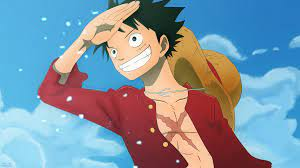Luffy: (103, 6, 180, 80)
